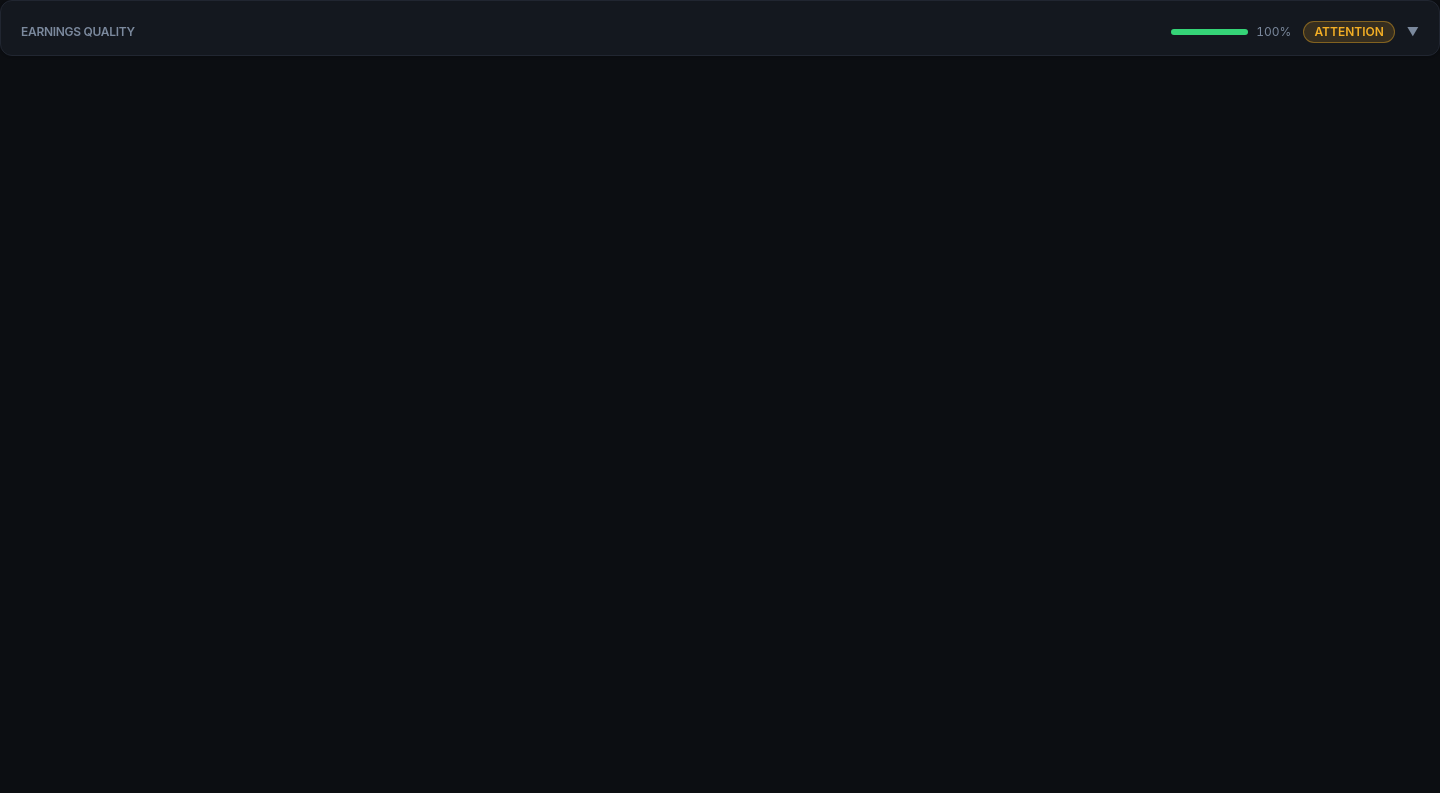
Test: EarningsQualitySection › omet la grille X1-X5 quand tous les termes sont null (banque) mais garde score et interprétation
The width and height of the screenshot is (1440, 793).
Click the button with test id "eq-toggle" at (78, 32), box top-left (21, 21), bottom-right (1419, 43)
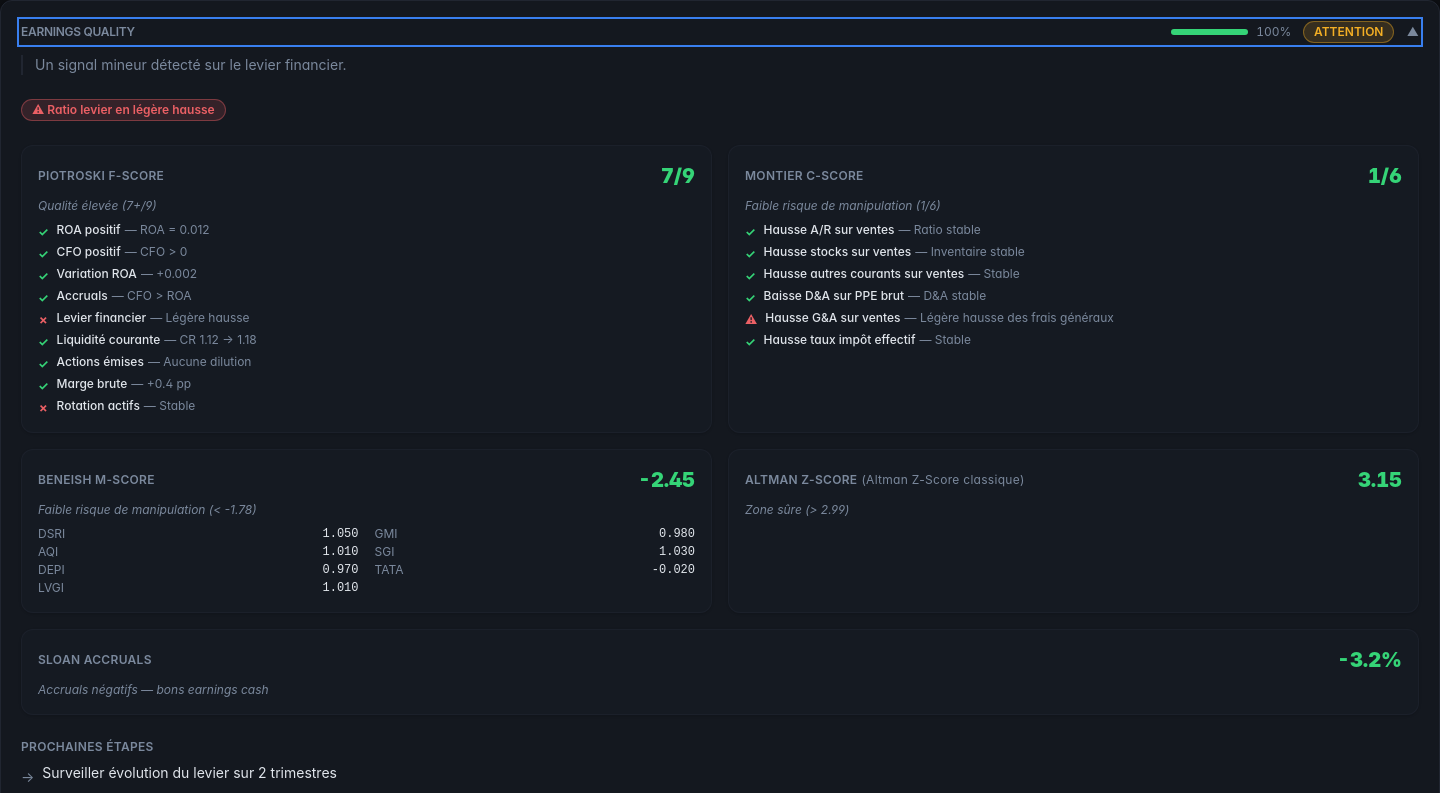
Result: the text with test id "zscore-value" reads "3.15" at top-left (1358, 468), bottom-right (1402, 492)
Result: the text "Zone sûre (> 2.99)" is shown at top-left (745, 502), bottom-right (849, 517)
